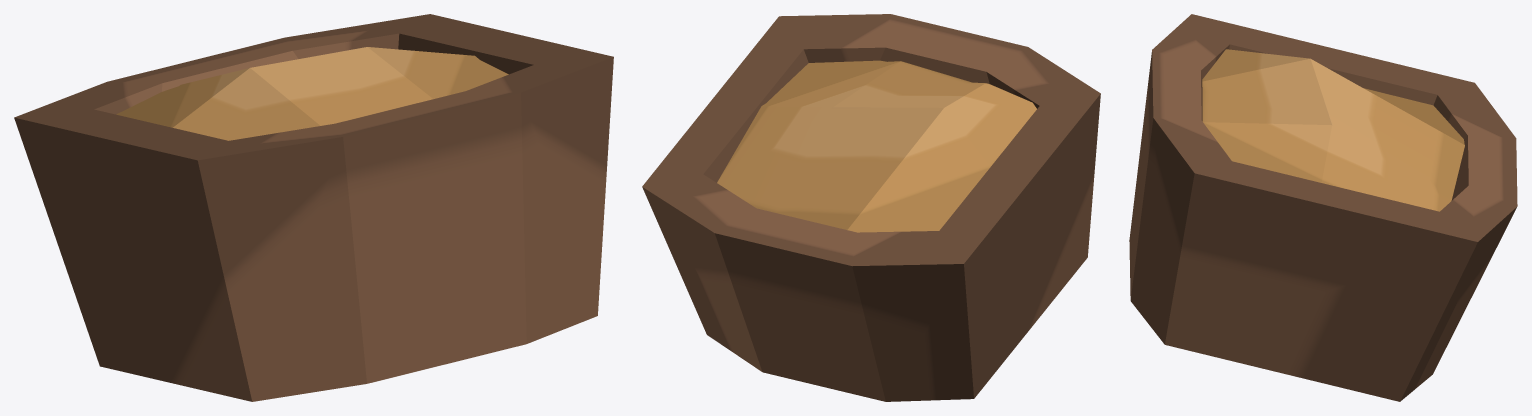
Rendered from SM_Prop_Fishtank_01_Chest_01.obj.
3 renders of one model, left to right at view 1: azimuth 30°, elevation 25°; view 2: azimuth 150°, elevation 25°; view 3: azimuth 270°, elevation 25°, orthographic. The views are drawn at different scales.
Parts seen in each view (by area): view 1: SM_Prop_Fishtank_01_Chest_01_0; view 2: SM_Prop_Fishtank_01_Chest_01_0; view 3: SM_Prop_Fishtank_01_Chest_01_0.
Boxes of the visible parts, x1,y1,x2,y2 form: SM_Prop_Fishtank_01_Chest_01_0: (14,14,613,401); SM_Prop_Fishtank_01_Chest_01_0: (642,14,1100,401); SM_Prop_Fishtank_01_Chest_01_0: (1129,14,1517,401).
Size of the model in its own units: 0.1472 by 0.1117 by 0.1505.
Materials: 1 (1 with a texture image).
